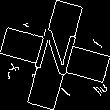N_S: (29, 25, 81, 85)
